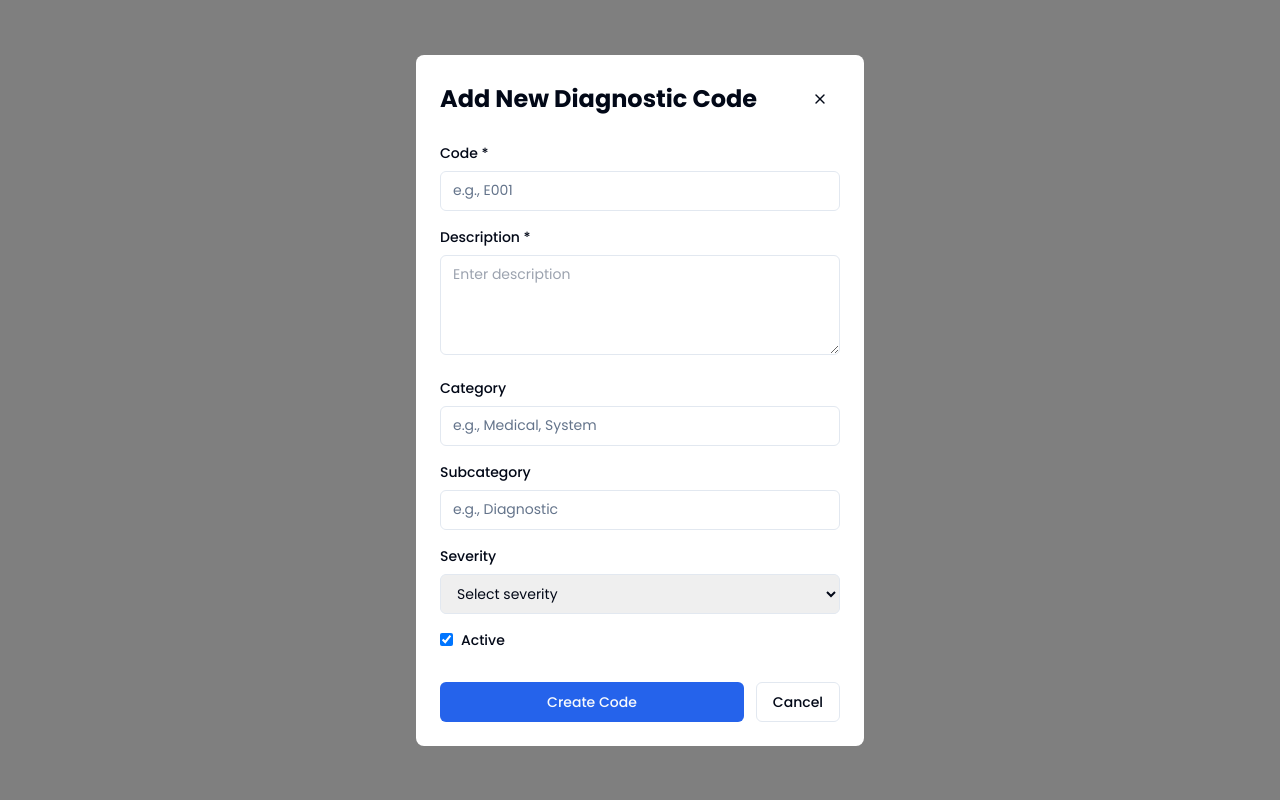
CodeFormModal › handles submission errors
// Submit without filling fields
Click the button "Create Code": (592, 702) [440,682,744,722]
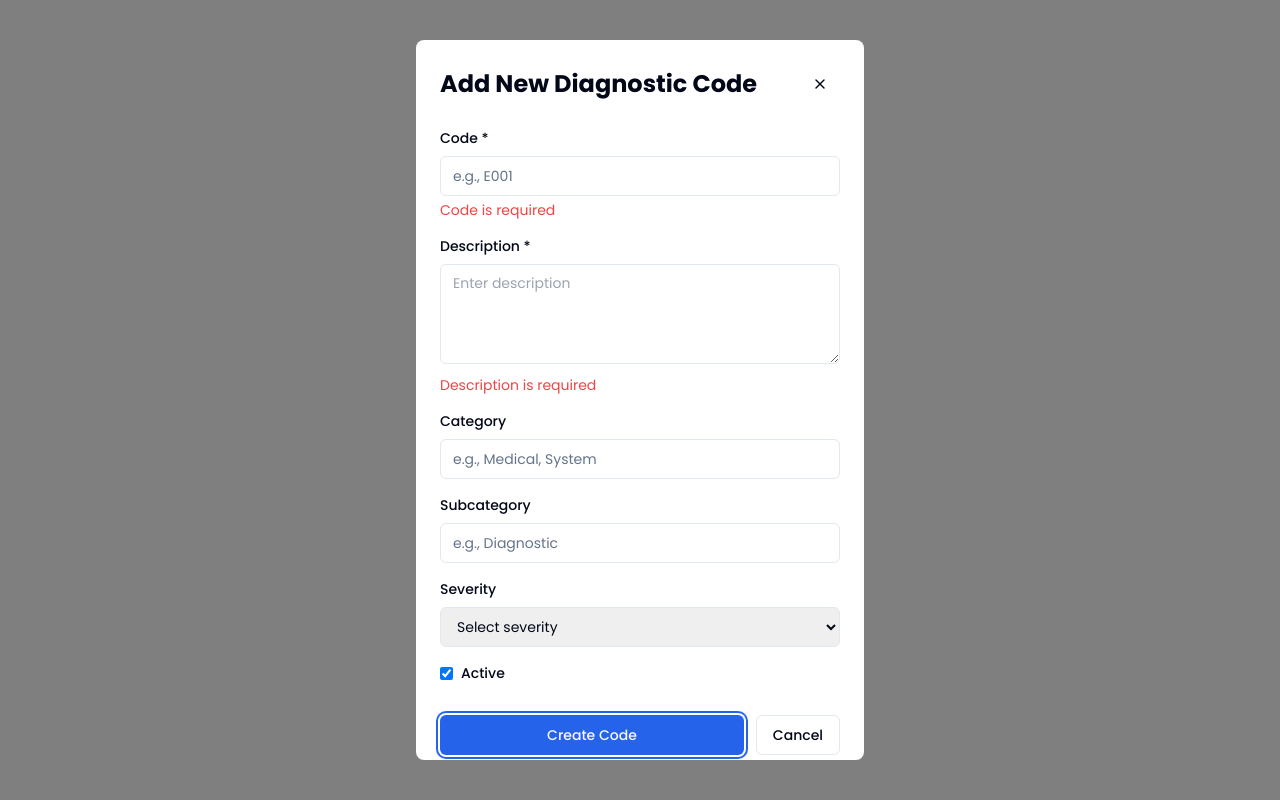
Result: the text "Code is required" is shown at [440,200,555,220]
Result: the text "Description is required" is shown at [440,375,596,395]
